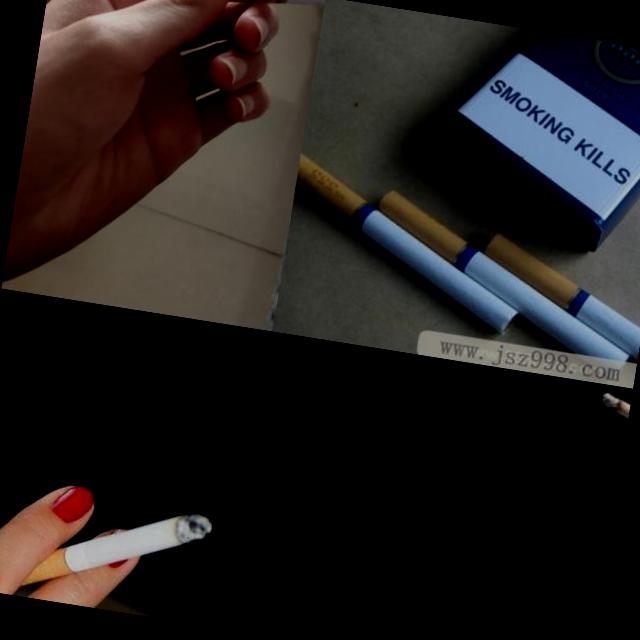cigarette: (357, 189, 640, 376), (278, 150, 540, 338), (2, 482, 216, 616), (466, 230, 640, 388), (592, 390, 632, 450), (222, 0, 325, 18)
